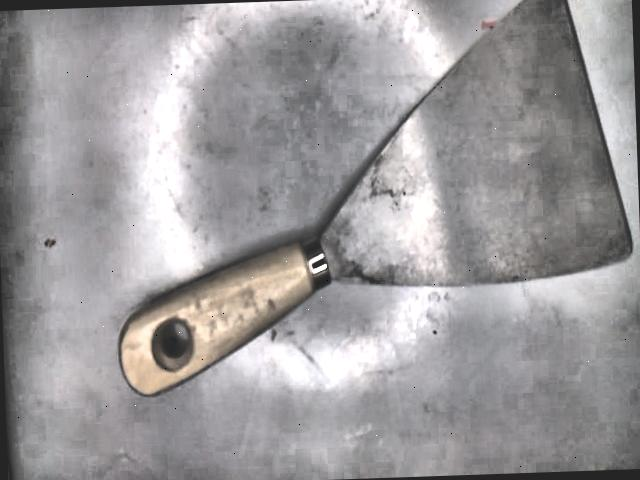Almennt: (114, 0, 638, 396)
